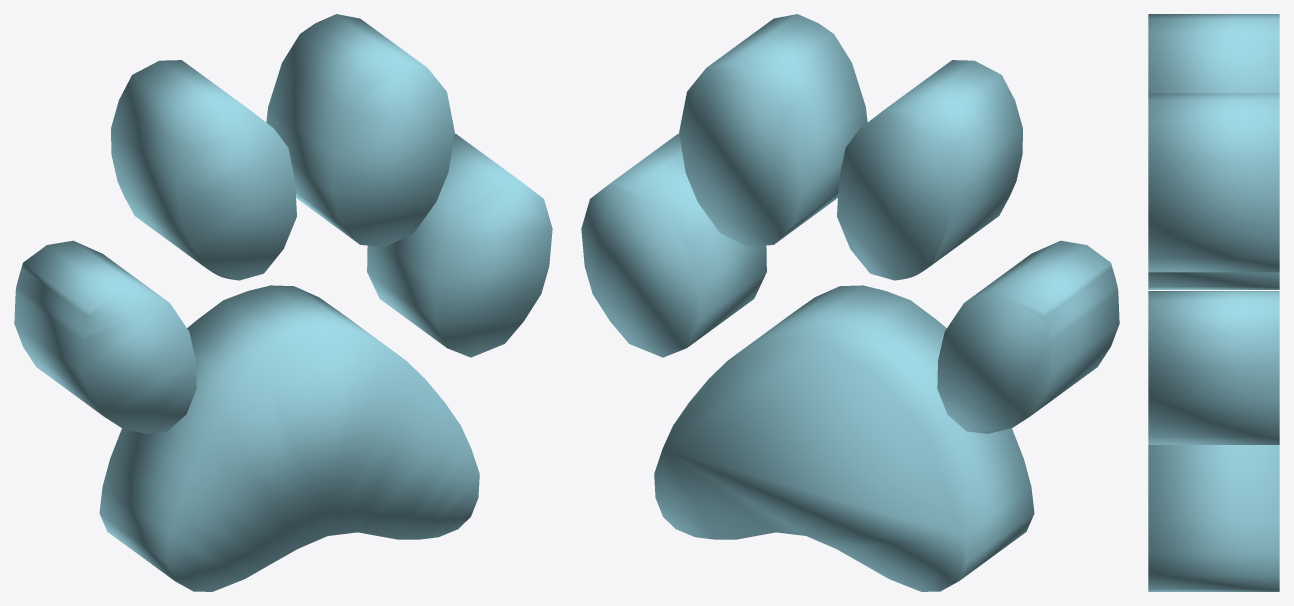
The model's file is paw.dae.
3 views of the same model, side by side, from view 1: azimuth 30°, elevation 25°; view 2: azimuth 150°, elevation 25°; view 3: azimuth 270°, elevation 25° (orthographic). The views are drawn at different scales.
Parts seen in each view (by area): view 1: Line001; view 2: Line001; view 3: Line001.
Boxes of the visible parts, x1,y1,x2,y2 form: Line001: (14, 14, 552, 591); Line001: (581, 14, 1119, 591); Line001: (1148, 14, 1279, 591).
Bounding box in the file's own units: 40.29 × 10 × 39.45.
